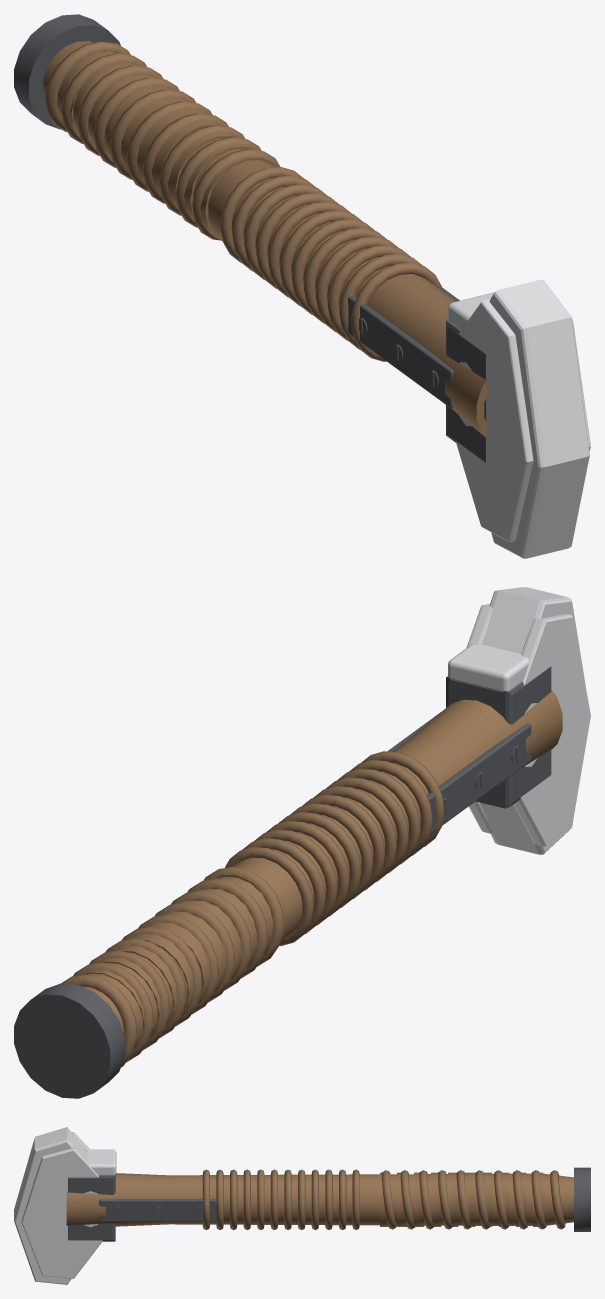
The model's file is mega-weapon-pack-throwing-axe-39b99c8e__33417.glb.
3 renders of one model, top to bottom at view 1: azimuth 30°, elevation 25°; view 2: azimuth 150°, elevation 25°; view 3: azimuth 270°, elevation 25°, orthographic. The views are drawn at different scales.
Parts seen in each view (by area): view 1: throwing-axe; view 2: throwing-axe; view 3: throwing-axe.
Boxes of the visible parts, x1=… form: throwing-axe: x1=14, y1=14, x2=590, y2=558; throwing-axe: x1=14, y1=587, x2=590, y2=1098; throwing-axe: x1=14, y1=1127, x2=590, y2=1284.
Size of the model in its own units: 0.0374 by 0.0942 by 0.339.
